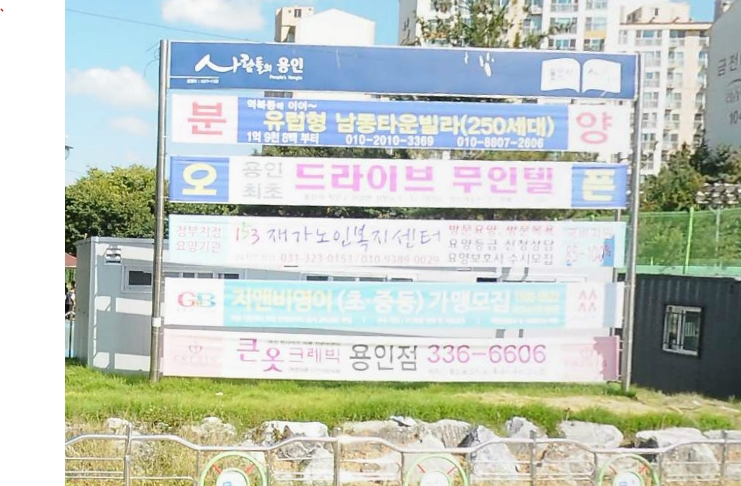banner: (151, 319, 641, 397), (150, 83, 645, 158), (145, 265, 637, 334), (145, 205, 642, 273), (148, 147, 646, 209)
